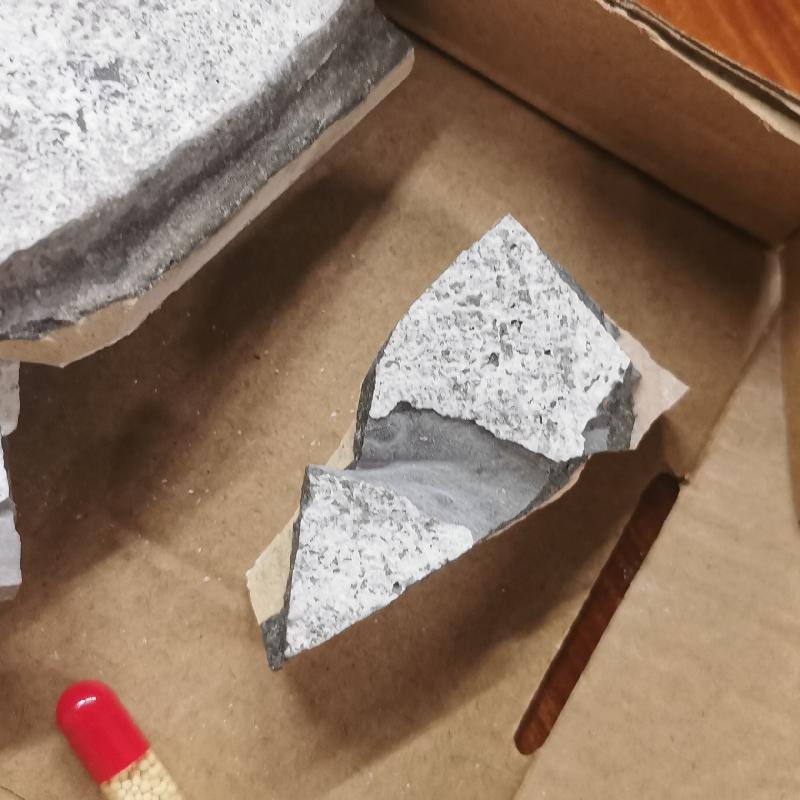tile: (229, 216, 699, 700)
